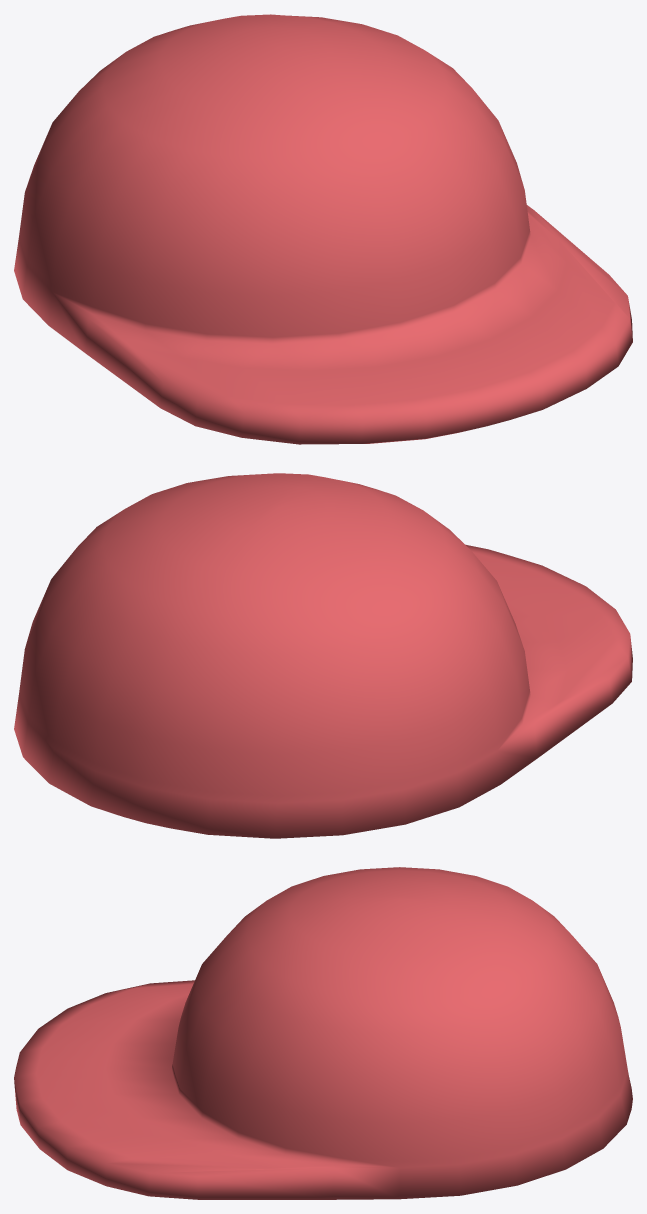
File: Player_Hat.fbx
3 views of the same model, one above another, from view 1: azimuth 30°, elevation 25°; view 2: azimuth 150°, elevation 25°; view 3: azimuth 270°, elevation 25° (orthographic). The views are drawn at different scales.
Visible parts, largest first — view 1: Chr_Hat; view 2: Chr_Hat; view 3: Chr_Hat.
Part boxes in pixels (x1,y1,x2,y2): Chr_Hat: (14, 14, 632, 444); Chr_Hat: (14, 473, 632, 838); Chr_Hat: (14, 867, 632, 1199).
Size of the model in its own units: 1.72 by 0.8348 by 2.25.
